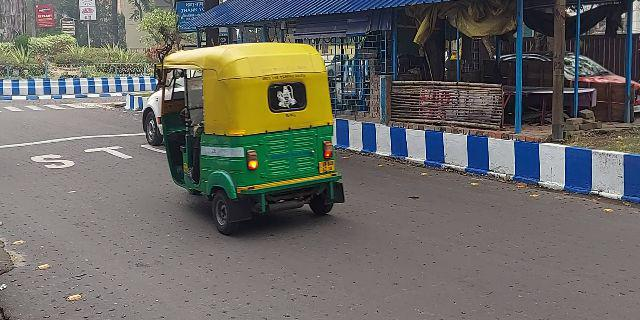Autorickshaw: (159, 36, 365, 227)
